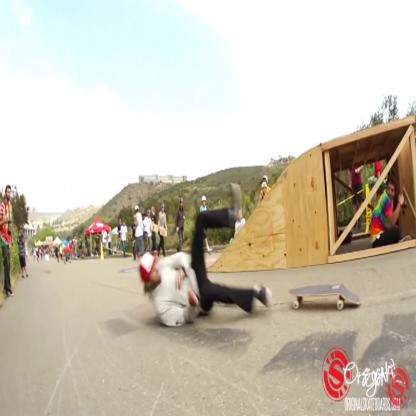Fall_Down: (139, 182, 272, 327)
